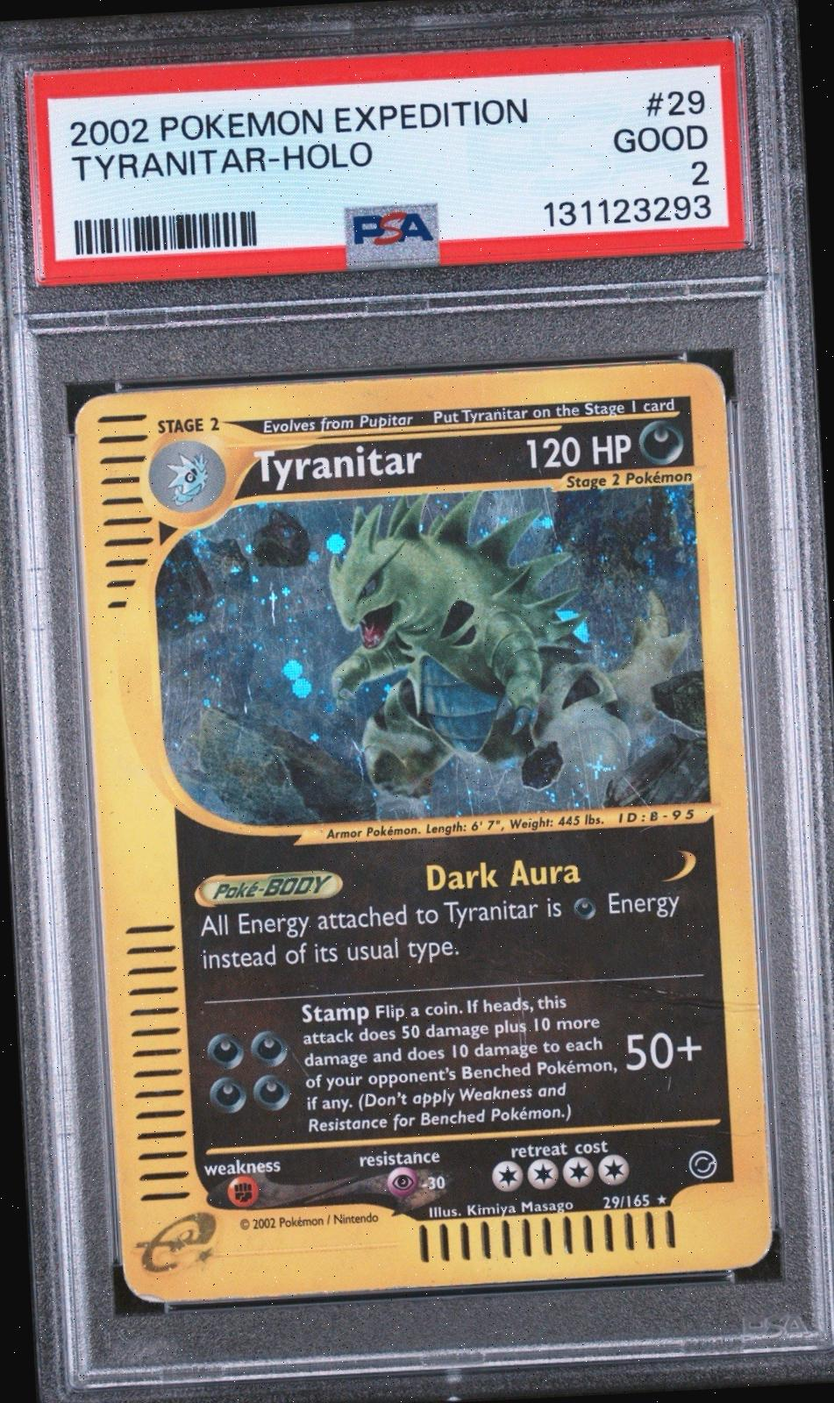card-2UtV: (73, 361, 772, 1303)
